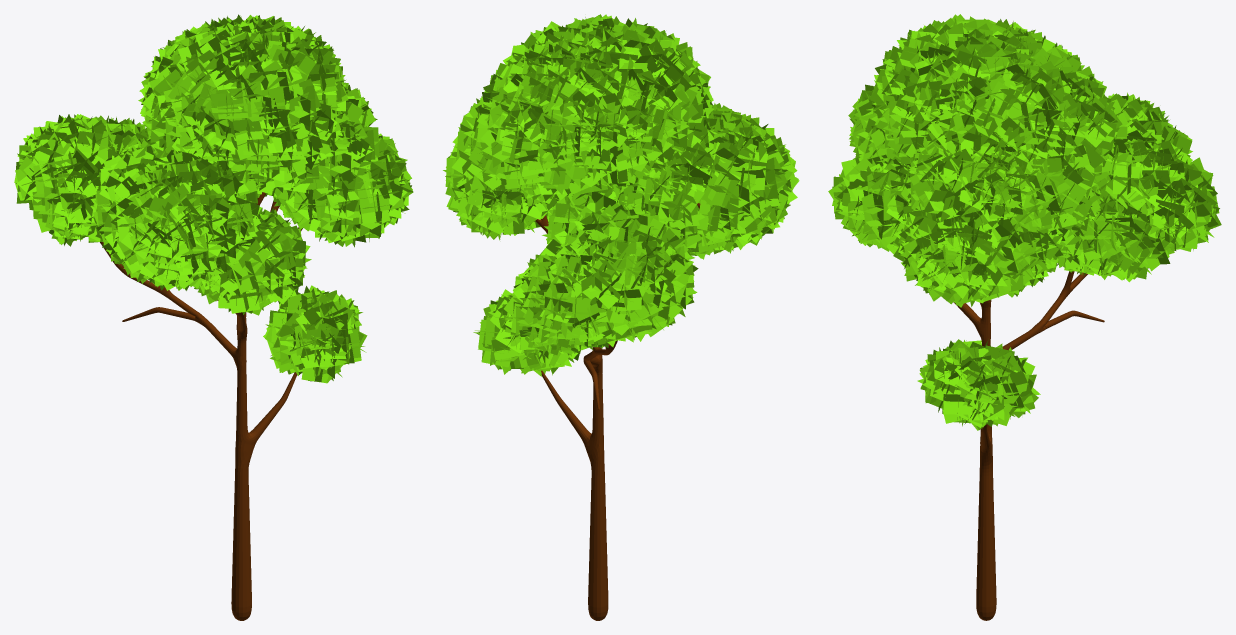
The model's file is lagcreator.fbx.
3 views of the same model, side by side, from view 1: azimuth 30°, elevation 25°; view 2: azimuth 150°, elevation 25°; view 3: azimuth 270°, elevation 25° (orthographic).
Parts seen in each view (by area): view 1: Plane.003, Cube; view 2: Plane.003, Cube; view 3: Plane.003, Cube.
Boxes of the visible parts, <box> form: Plane.003: <box>14,14,413,383</box>; Cube: <box>100,192,302,620</box>; Plane.003: <box>443,14,799,376</box>; Cube: <box>535,203,700,620</box>; Plane.003: <box>828,14,1221,430</box>; Cube: <box>953,271,1104,620</box>.
Size of the model in its own units: 2974 by 5309 by 3202.
